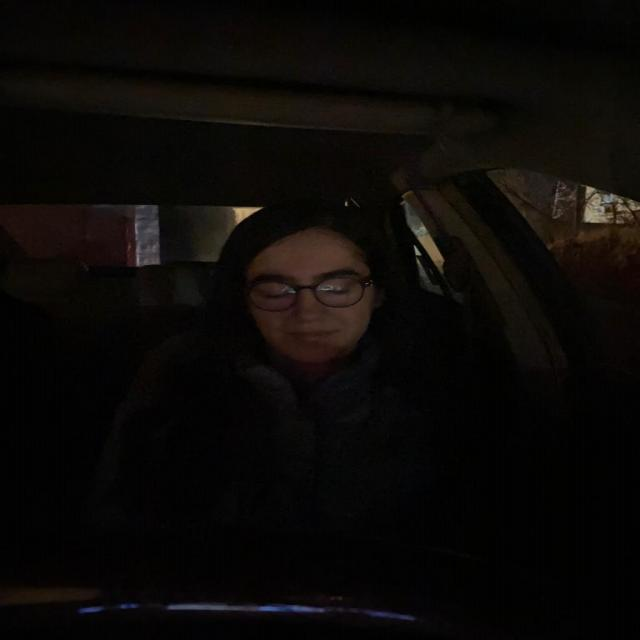drowsy: (220, 193, 396, 367)
